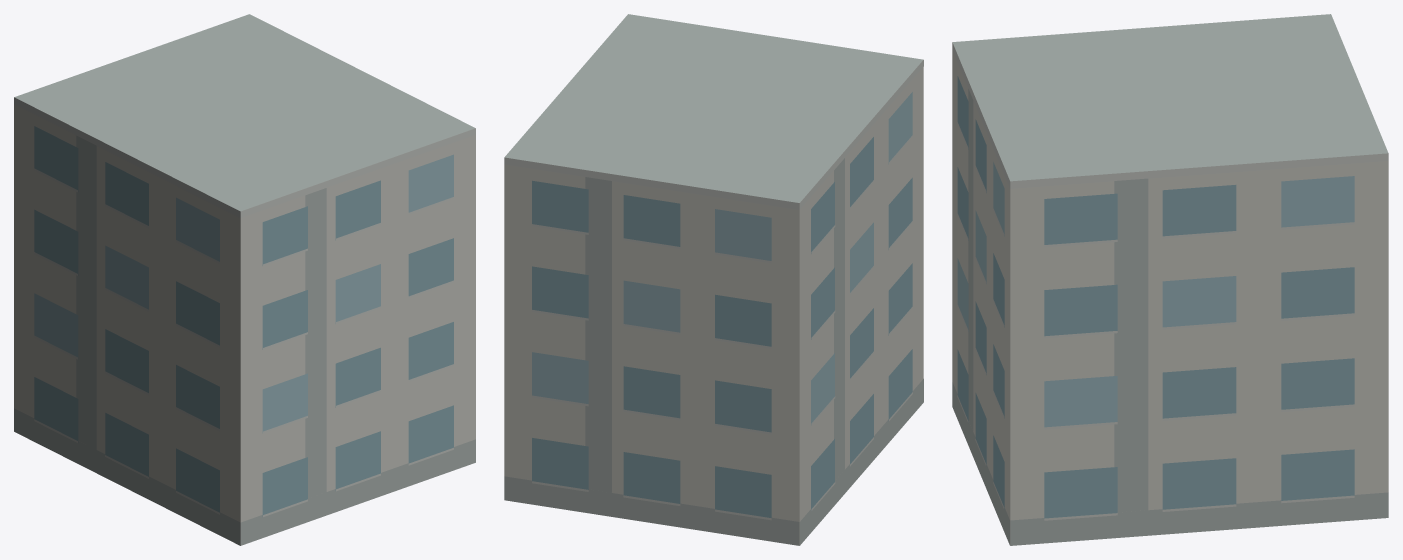
The model's file is residential-df0714f8-eb1e-4743-94b6-352e98c83fc5.glb.
3 renders of one model, left to right at view 1: azimuth 30°, elevation 25°; view 2: azimuth 150°, elevation 25°; view 3: azimuth 270°, elevation 25°, orthographic. The views are drawn at different scales.
Parts seen in each view (by area): view 1: residential-df0714f8-eb1e-4743-94b6-352e98c83fc5.tmp; view 2: residential-df0714f8-eb1e-4743-94b6-352e98c83fc5.tmp; view 3: residential-df0714f8-eb1e-4743-94b6-352e98c83fc5.tmp.
Boxes of the visible parts, left/top/right/bottom form: residential-df0714f8-eb1e-4743-94b6-352e98c83fc5.tmp: left=14, top=14, right=475, bottom=545; residential-df0714f8-eb1e-4743-94b6-352e98c83fc5.tmp: left=504, top=14, right=923, bottom=545; residential-df0714f8-eb1e-4743-94b6-352e98c83fc5.tmp: left=952, top=14, right=1388, bottom=545.
Size of the model in its own units: 11.82 by 12 by 13.03.
